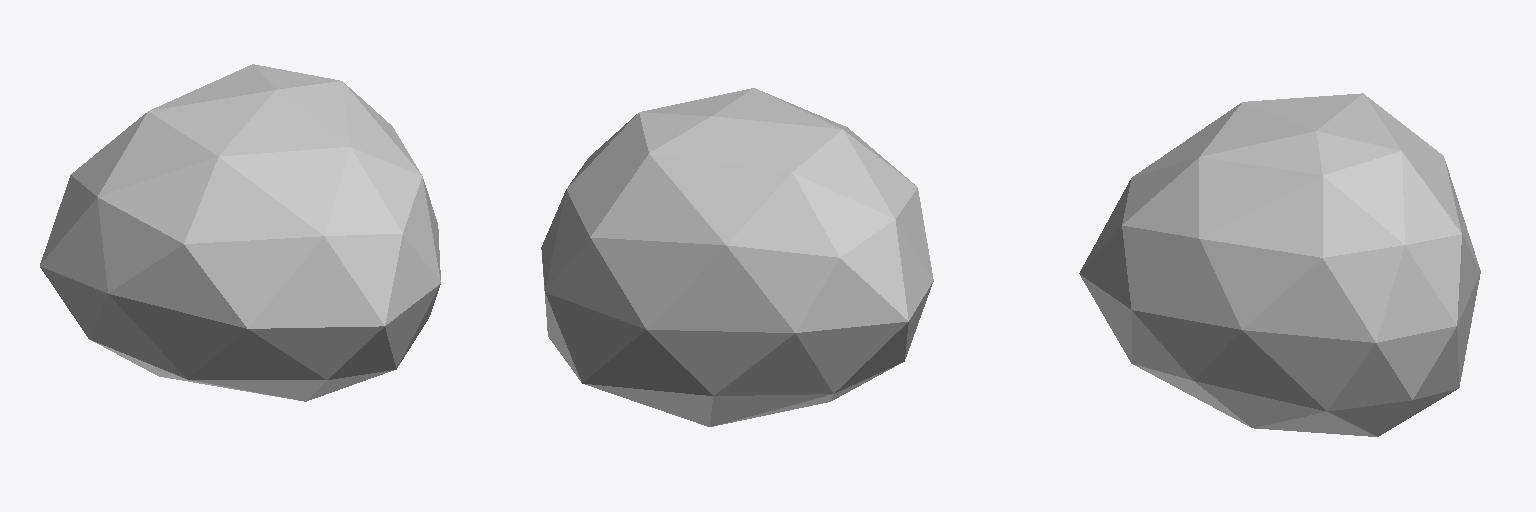
Rendered from Rock00.obj.
3 renders of one model, left to right at view 1: azimuth 30°, elevation 25°; view 2: azimuth 150°, elevation 25°; view 3: azimuth 270°, elevation 25°, orthographic.
Visible parts, largest first — view 1: Rock00; view 2: Rock00; view 3: Rock00.
Boxes of the visible parts, x1,y1,x2,y2 form: Rock00: [40, 64, 440, 401]; Rock00: [541, 88, 933, 426]; Rock00: [1079, 93, 1480, 436].
Size of the model in its own units: 1.3 by 1 by 1.27.